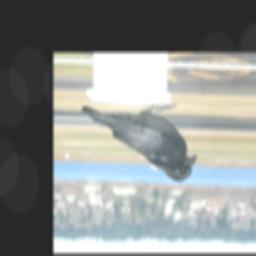Crow: (80, 104, 198, 182)
